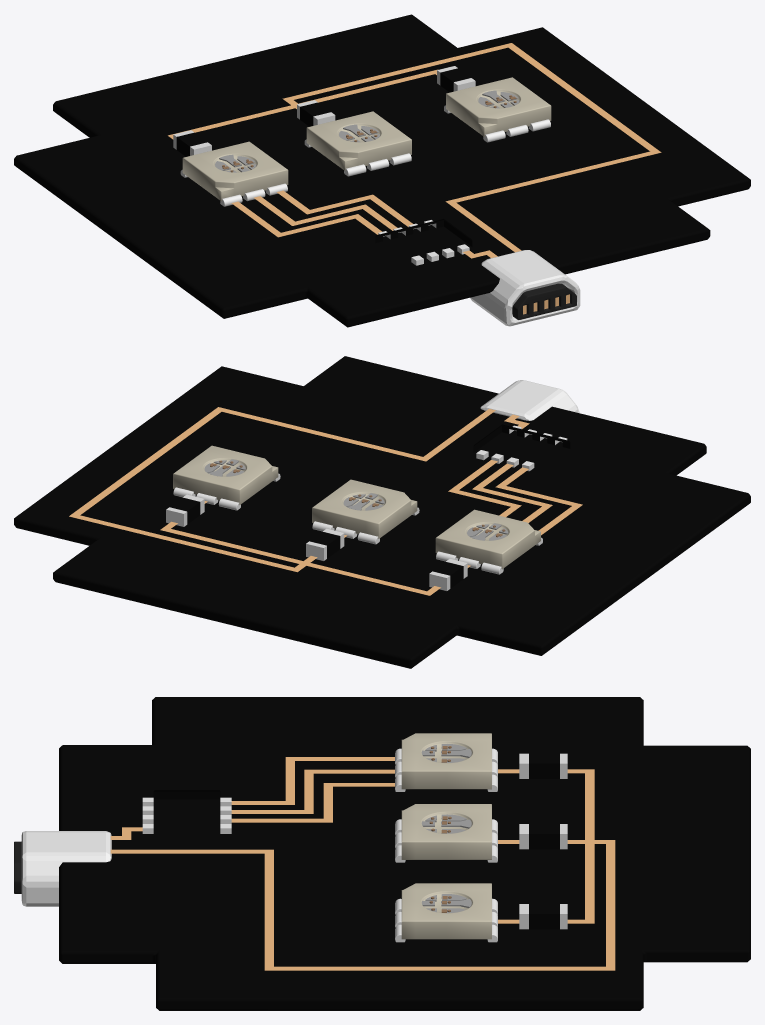
Rendered from RGB LEDs.glb.
3 views of the same model, one above another, from view 1: azimuth 30°, elevation 25°; view 2: azimuth 150°, elevation 25°; view 3: azimuth 270°, elevation 25° (orthographic). The views are drawn at different scales.
Visible parts, largest first — view 1: RGB LEDs; view 2: RGB LEDs; view 3: RGB LEDs.
Part boxes in pixels (bbox=[...]): RGB LEDs: bbox=[14, 14, 750, 327]; RGB LEDs: bbox=[14, 356, 750, 668]; RGB LEDs: bbox=[14, 697, 750, 1010].
Bounding box in the file's own units: 0.0385 × 0.00379 × 0.0395.
